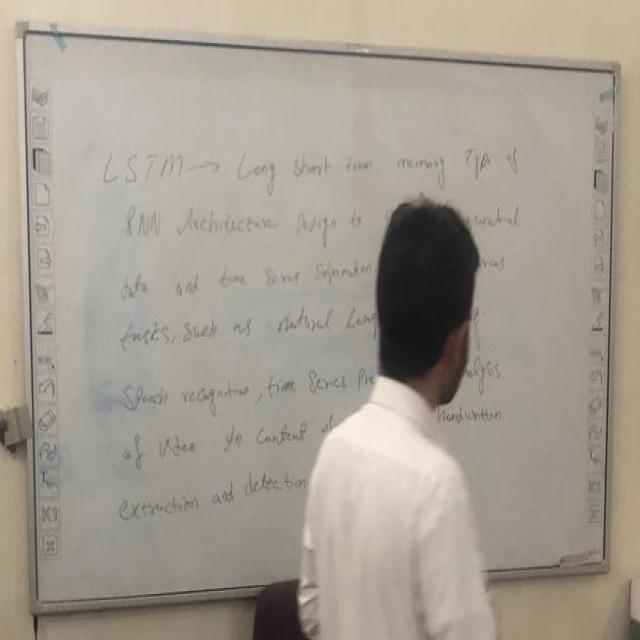Instructor: (328, 206, 494, 640)
White-board: (19, 26, 617, 614)
